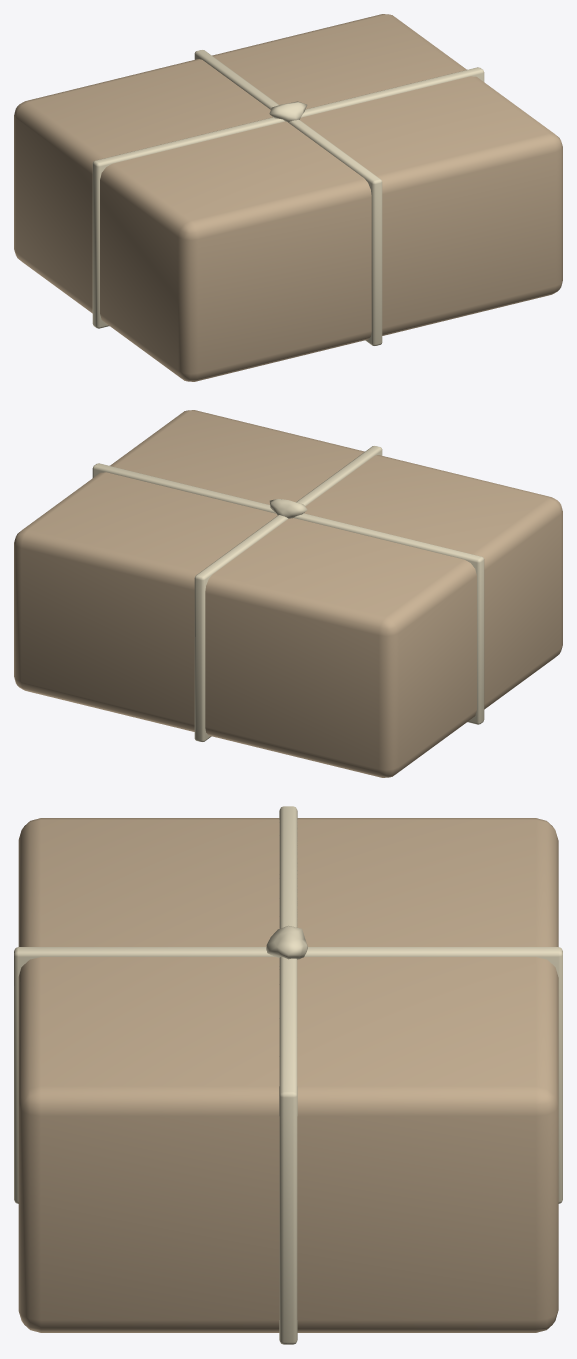
Rendered from cl_bundle.glb.
3 renders of one model, top to bottom at view 1: azimuth 30°, elevation 25°; view 2: azimuth 150°, elevation 25°; view 3: azimuth 270°, elevation 25°, orthographic. The views are drawn at different scales.
Visible parts, largest first — view 1: cl_bundle; view 2: cl_bundle; view 3: cl_bundle.
Boxes of the visible parts, x1=… form: cl_bundle: x1=14, y1=14, x2=562, y2=381; cl_bundle: x1=14, y1=410, x2=562, y2=777; cl_bundle: x1=14, y1=806, x2=562, y2=1344.
Bounding box in the file's own units: 0.304 × 0.1323 × 0.244.
